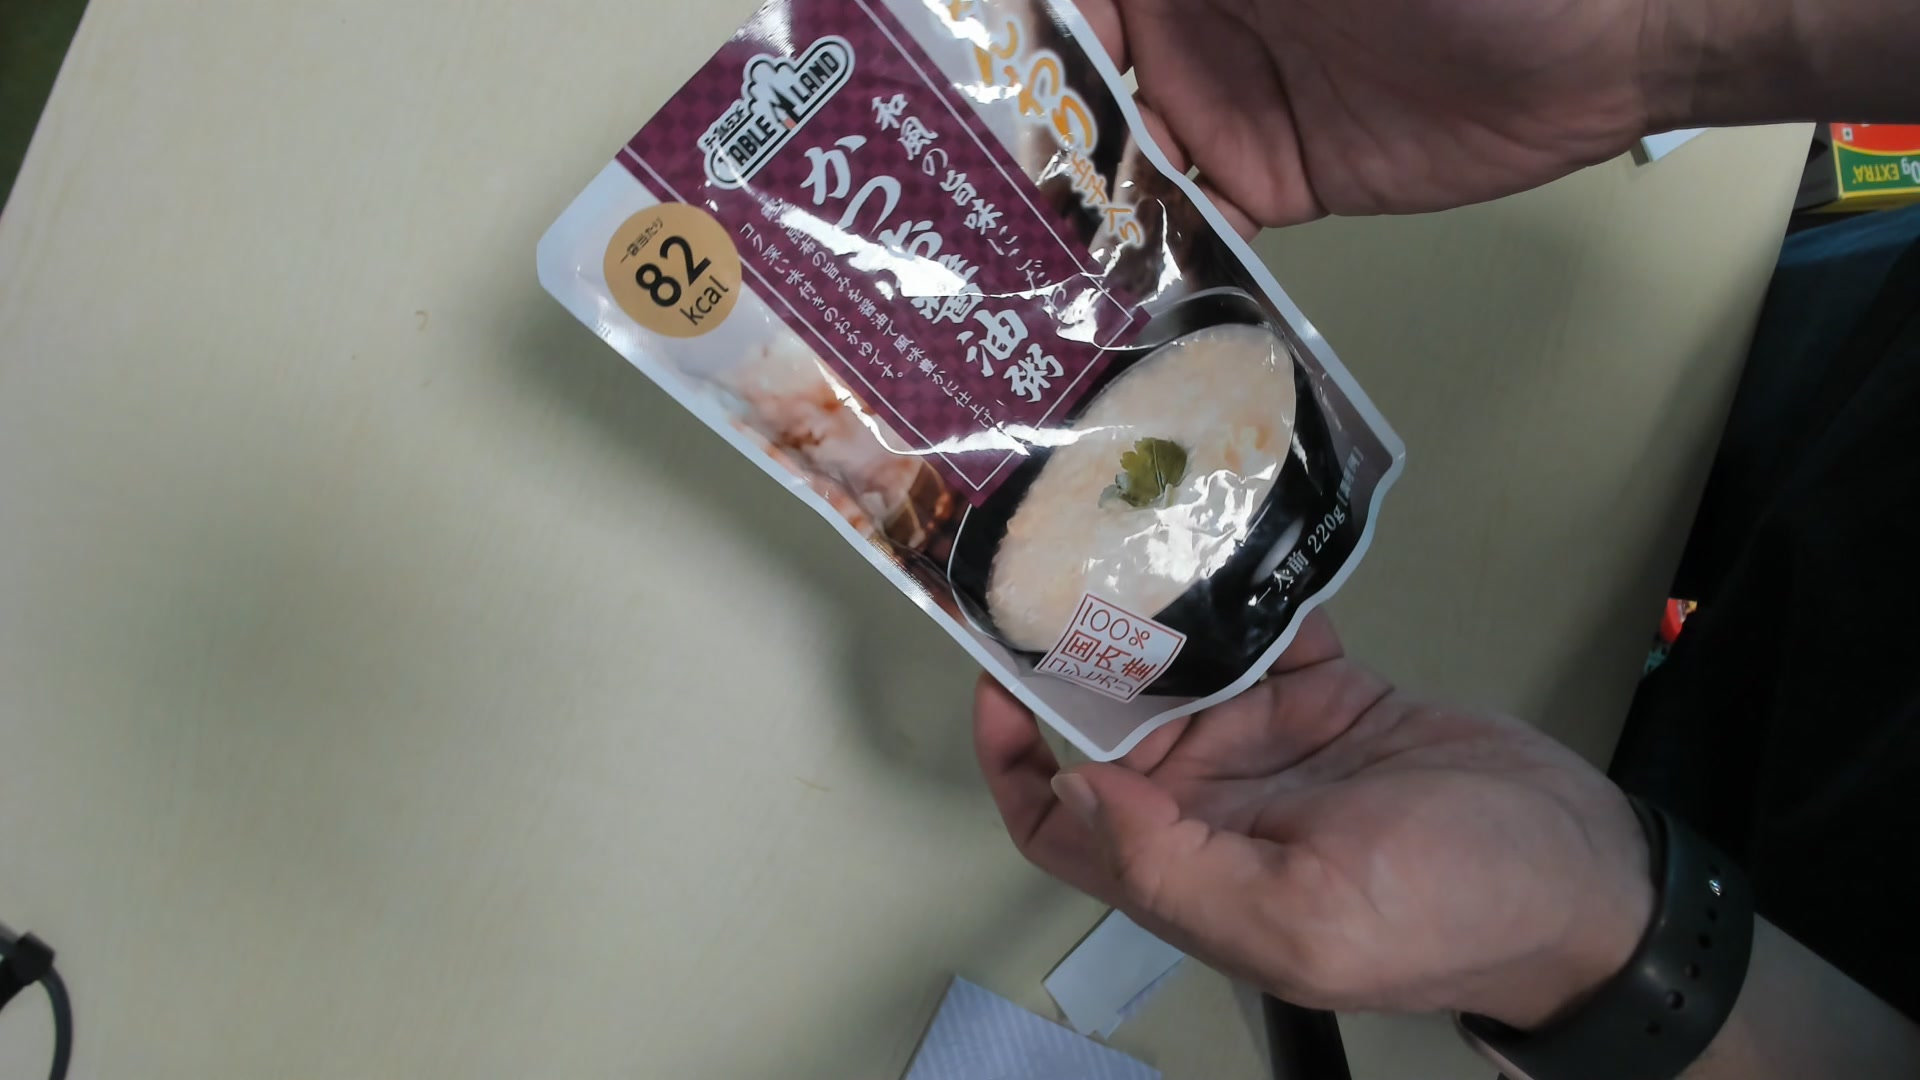InstantMeals_200_299g_NonHalal_NonHealthy: (535, 3, 1414, 771)
